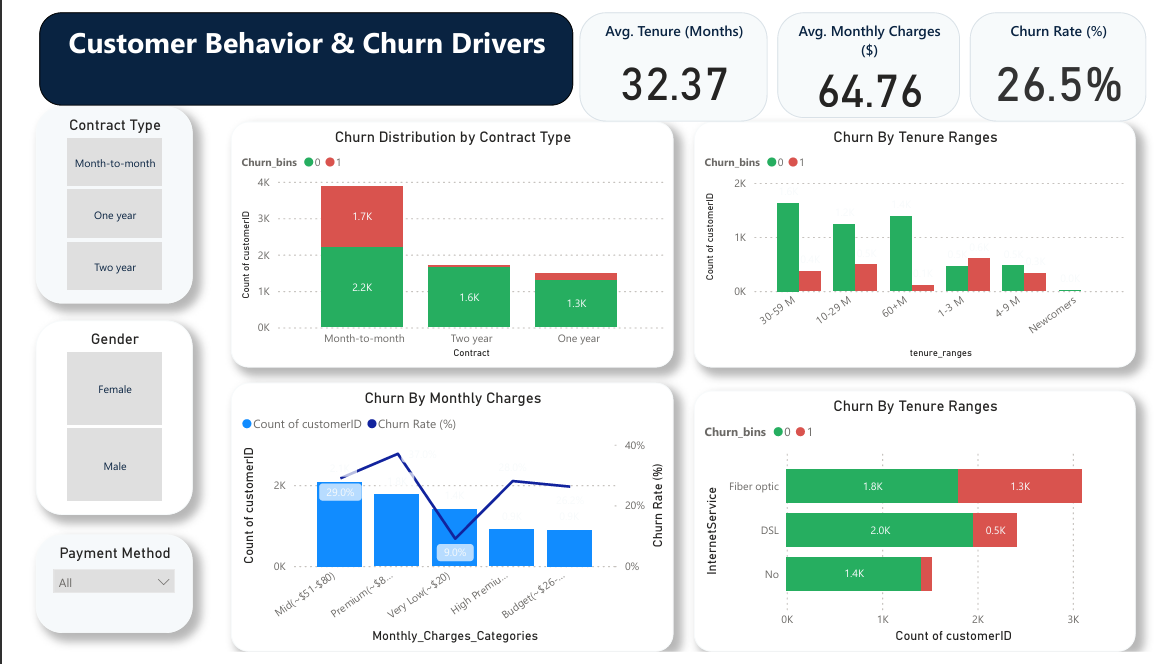

This screenshot's page, from the dashboard's own definition file:
{"tool":"powerbi","page":{"name":"Page 2","canvas":[1280,720],"ordinal":1},"visuals":[{"type":"slicer","title":"Contract Type","fields":{"Values":["Sheet1.Contract"]},"box":[14,105.9,176.7,222.1],"z":0},{"type":"slicer","title":"Payment Method","fields":{"Values":["Sheet1.PaymentMethod"]},"box":[14,588.4,176.7,110.5],"z":1000},{"type":"slicer","title":"Gender","fields":{"Values":["Sheet1.gender"]},"box":[14,346.6,176.7,219.8],"z":2000},{"type":"textbox","box":[252.9,105.7,177.1,94.3],"z":3000},{"type":"textbox","box":[18.3,0,601.7,105],"z":4000},{"type":"columnChart","title":"Churn Distribution by Contract Type","fields":{"Category":["Sheet1.Contract"],"Series":["Sheet1.Churn_bins"],"Y":["CountNonNull(Sheet1.customerID)"]},"box":[234.3,122.9,498.6,277.1],"z":5000},{"type":"clusteredColumnChart","title":"Churn By Tenure Ranges","fields":{"Series":["Sheet1.Churn_bins"],"Y":["CountNonNull(Sheet1.customerID)"],"Category":["Sheet1.tenure_ranges"]},"box":[755.7,122.9,498.6,277.1],"z":6000},{"type":"lineStackedColumnComboChart","title":"Churn By Monthly Charges","fields":{"Y2":["Sheet1.Churn Rate (%)"],"Y":["CountNonNull(Sheet1.customerID)"],"Category":["Sheet1.Monthly_Charges_Categories"]},"box":[234.3,417.1,498.6,302.9],"z":7000},{"type":"barChart","title":"Churn By Tenure Ranges","fields":{"Series":["Sheet1.Churn_bins"],"Y":["CountNonNull(Sheet1.customerID)"],"Category":["Sheet1.InternetService"]},"box":[756,426,498,294],"z":8000},{"type":"card","title":"Avg. Tenure (Months)","fields":{"Values":["Sheet1.Average Tenure"]},"box":[627.1,0,211.4,122.9],"z":9000},{"type":"card","title":"Avg. Monthly Charges ($)","fields":{"Values":["Sheet1.Average Monthly Charges"]},"box":[850,0,205.7,118.6],"z":10000},{"type":"card","title":"Churn Rate (%)","fields":{"Values":["Sheet1.Churn Rate (%)"]},"box":[1067.1,0,198.6,122.9],"z":11000}]}

Visuals, with their boxes in screenshot pixels (x1, y1, x2, y2), scaled from the page's 1280x720 canvas onto the 1155x664 screenshot:
"Contract Type" slicer: (x1=13, y1=98, x2=172, y2=302)
"Payment Method" slicer: (x1=13, y1=543, x2=172, y2=645)
"Gender" slicer: (x1=13, y1=320, x2=172, y2=522)
textbox: (x1=228, y1=97, x2=388, y2=184)
textbox: (x1=17, y1=0, x2=559, y2=97)
"Churn Distribution by Contract Type" columnChart: (x1=211, y1=113, x2=661, y2=369)
"Churn By Tenure Ranges" clusteredColumnChart: (x1=682, y1=113, x2=1132, y2=369)
"Churn By Monthly Charges" lineStackedColumnComboChart: (x1=211, y1=385, x2=661, y2=663)
"Churn By Tenure Ranges" barChart: (x1=682, y1=393, x2=1132, y2=663)
"Avg. Tenure (Months)" card: (x1=566, y1=0, x2=757, y2=113)
"Avg. Monthly Charges ($)" card: (x1=767, y1=0, x2=953, y2=109)
"Churn Rate (%)" card: (x1=963, y1=0, x2=1142, y2=113)
